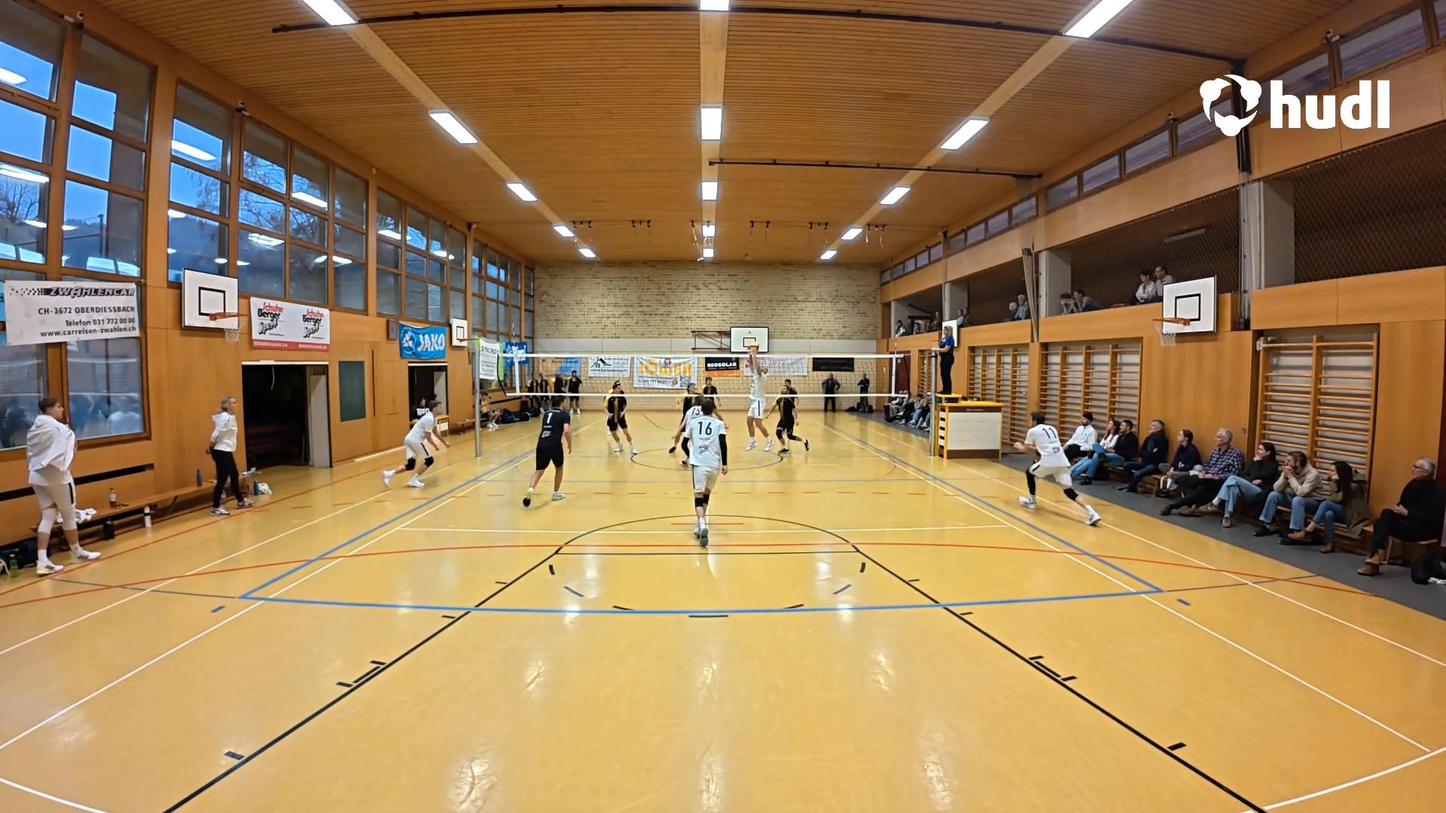alzata: (740, 338, 775, 452)
